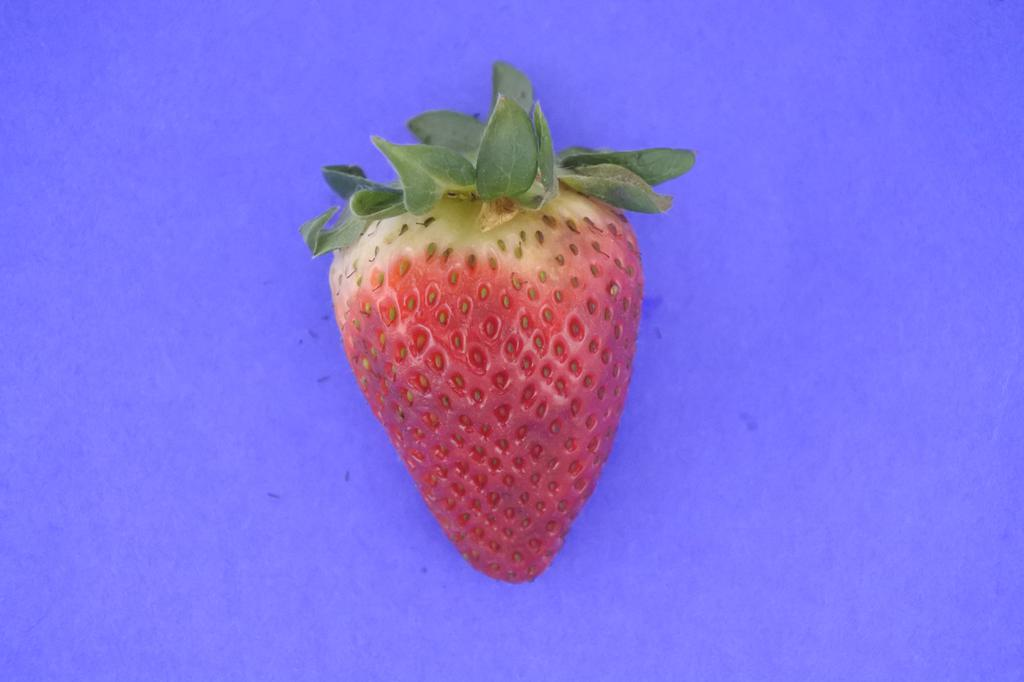red strawberry: (299, 59, 683, 582)
